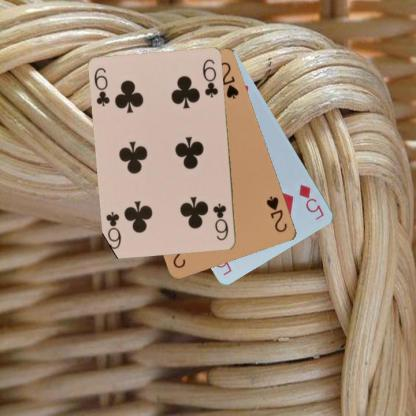2s: (263, 194, 289, 234)
5d: (296, 182, 326, 222)
6c: (92, 65, 112, 108), (210, 201, 230, 242)
